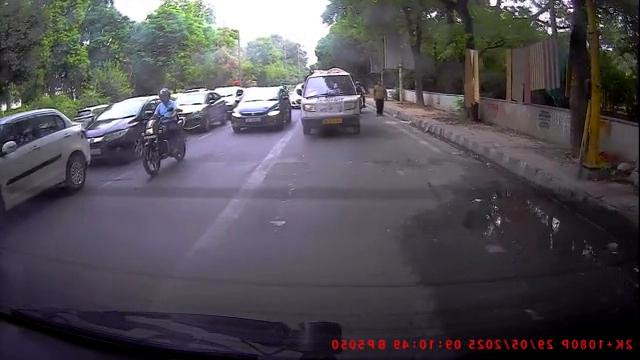motorcycle_with_helmet: (140, 86, 187, 177)
